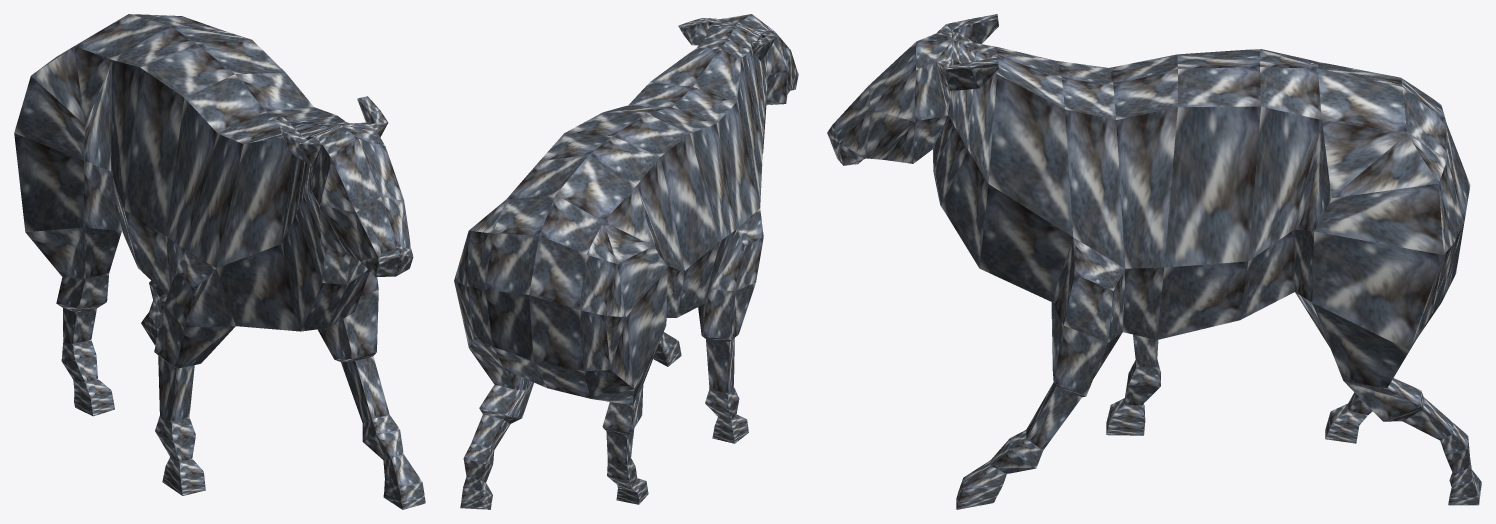
Rendered from SheepIdle_000059.obj.
The picture shows the model from 3 angles, left to right: view 1: azimuth 30°, elevation 25°; view 2: azimuth 150°, elevation 25°; view 3: azimuth 270°, elevation 25°; orthographic projection. The views are drawn at different scales.
Parts seen in each view (by area): view 1: Sheep_Cylinder; view 2: Sheep_Cylinder; view 3: Sheep_Cylinder.
Part boxes in pixels (left/top/right/bottom): Sheep_Cylinder: left=14, top=14, right=425, bottom=509; Sheep_Cylinder: left=454, top=14, right=798, bottom=509; Sheep_Cylinder: left=827, top=14, right=1481, bottom=509.
Size of the model in its own units: 2.22 by 4.39 by 6.03.
